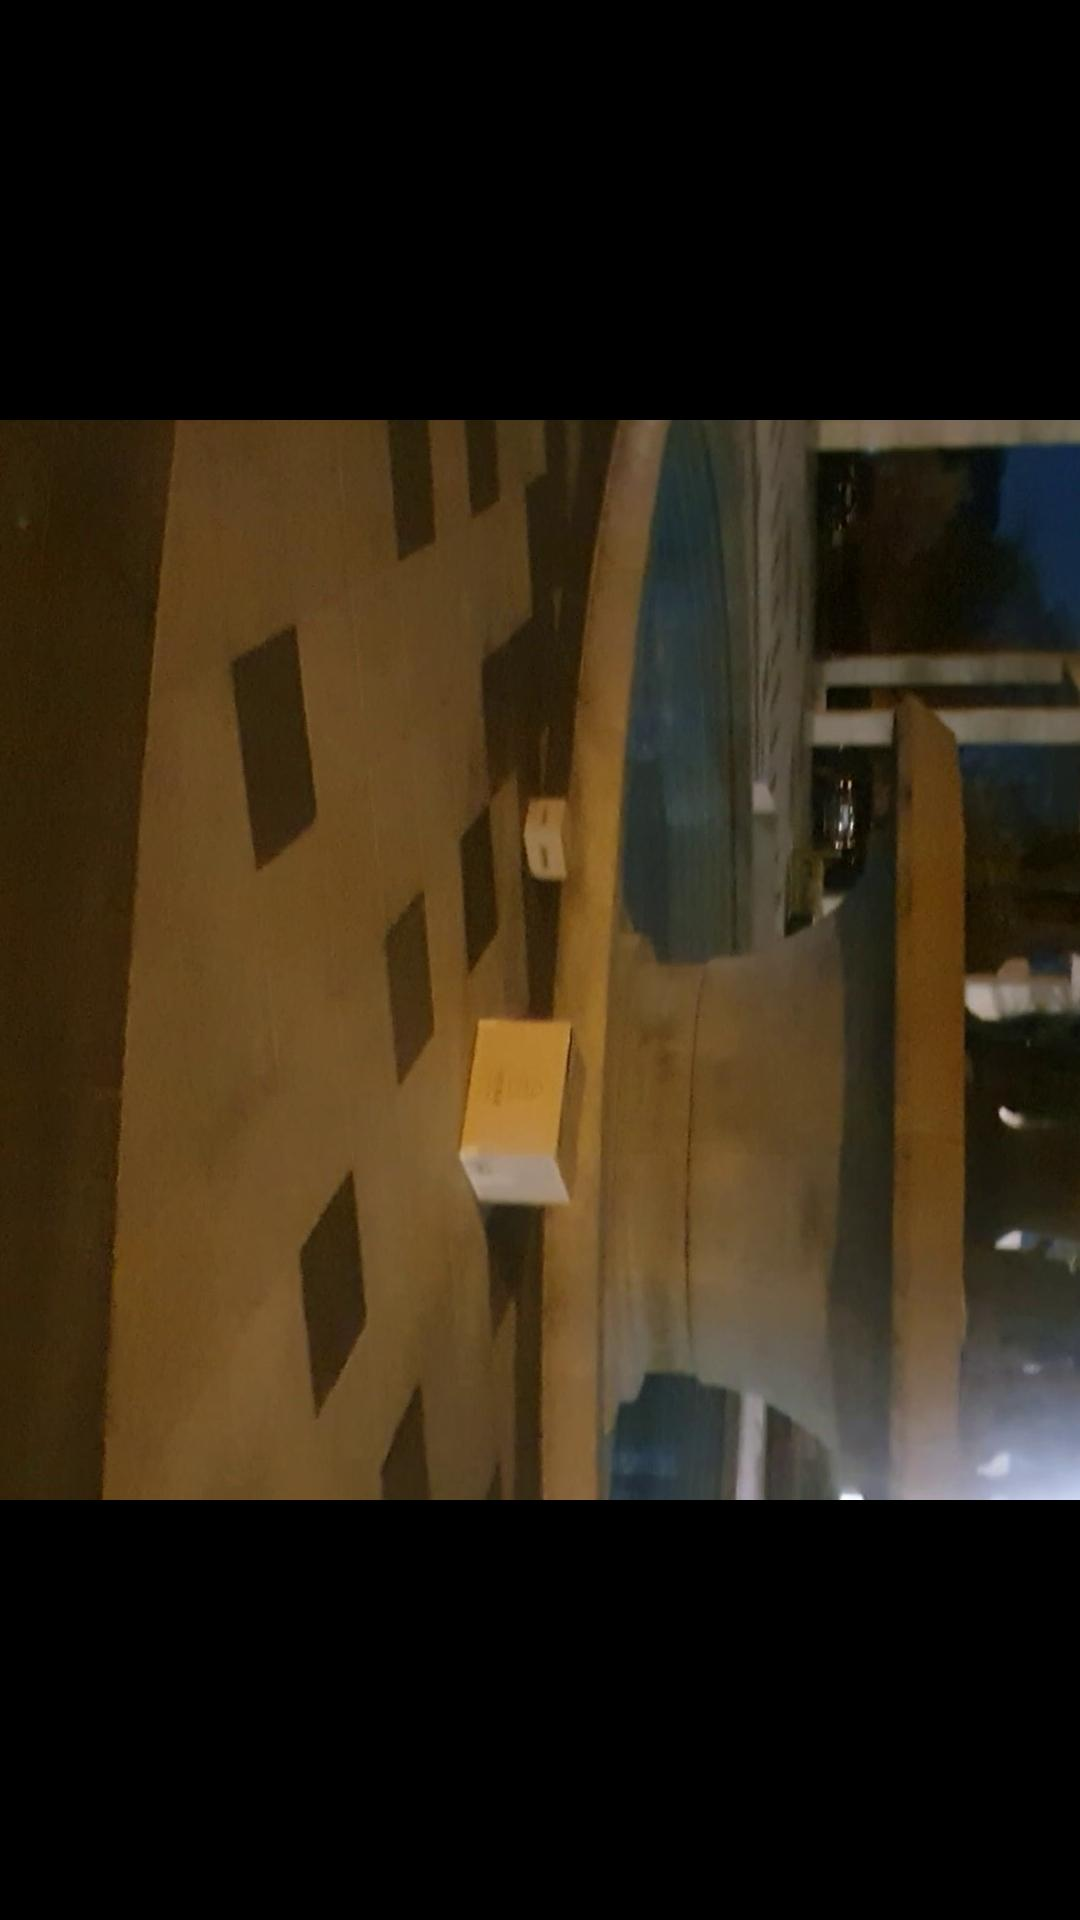Box: (444, 1023, 595, 1215), (520, 791, 587, 887)
